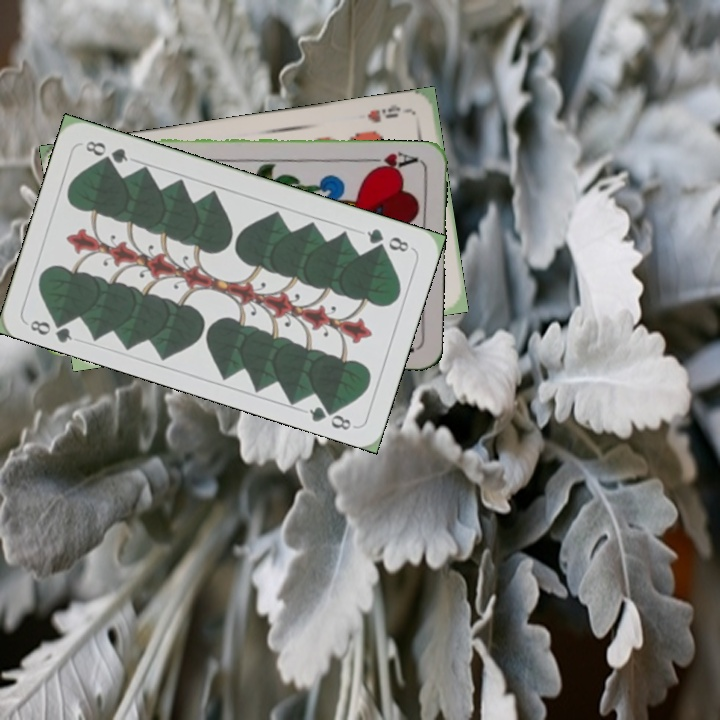G8: (26, 312, 75, 345), (362, 224, 412, 255)
H9: (363, 100, 412, 125)
HA: (362, 147, 420, 175)
